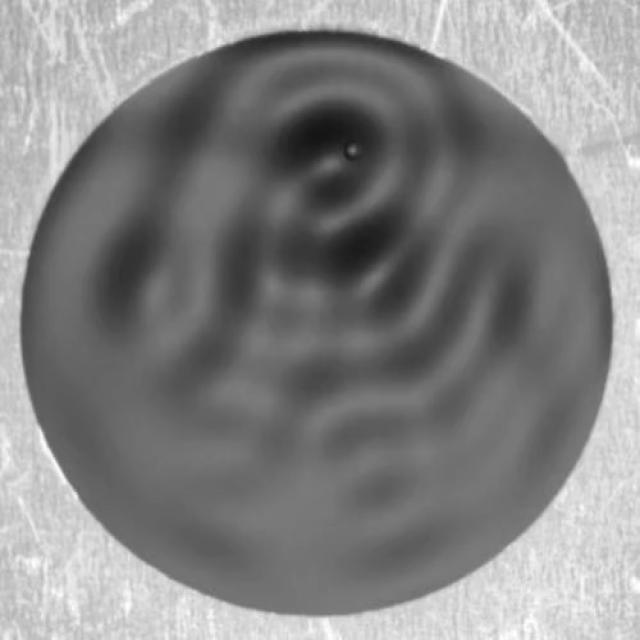droplet: (346, 141, 364, 162)
